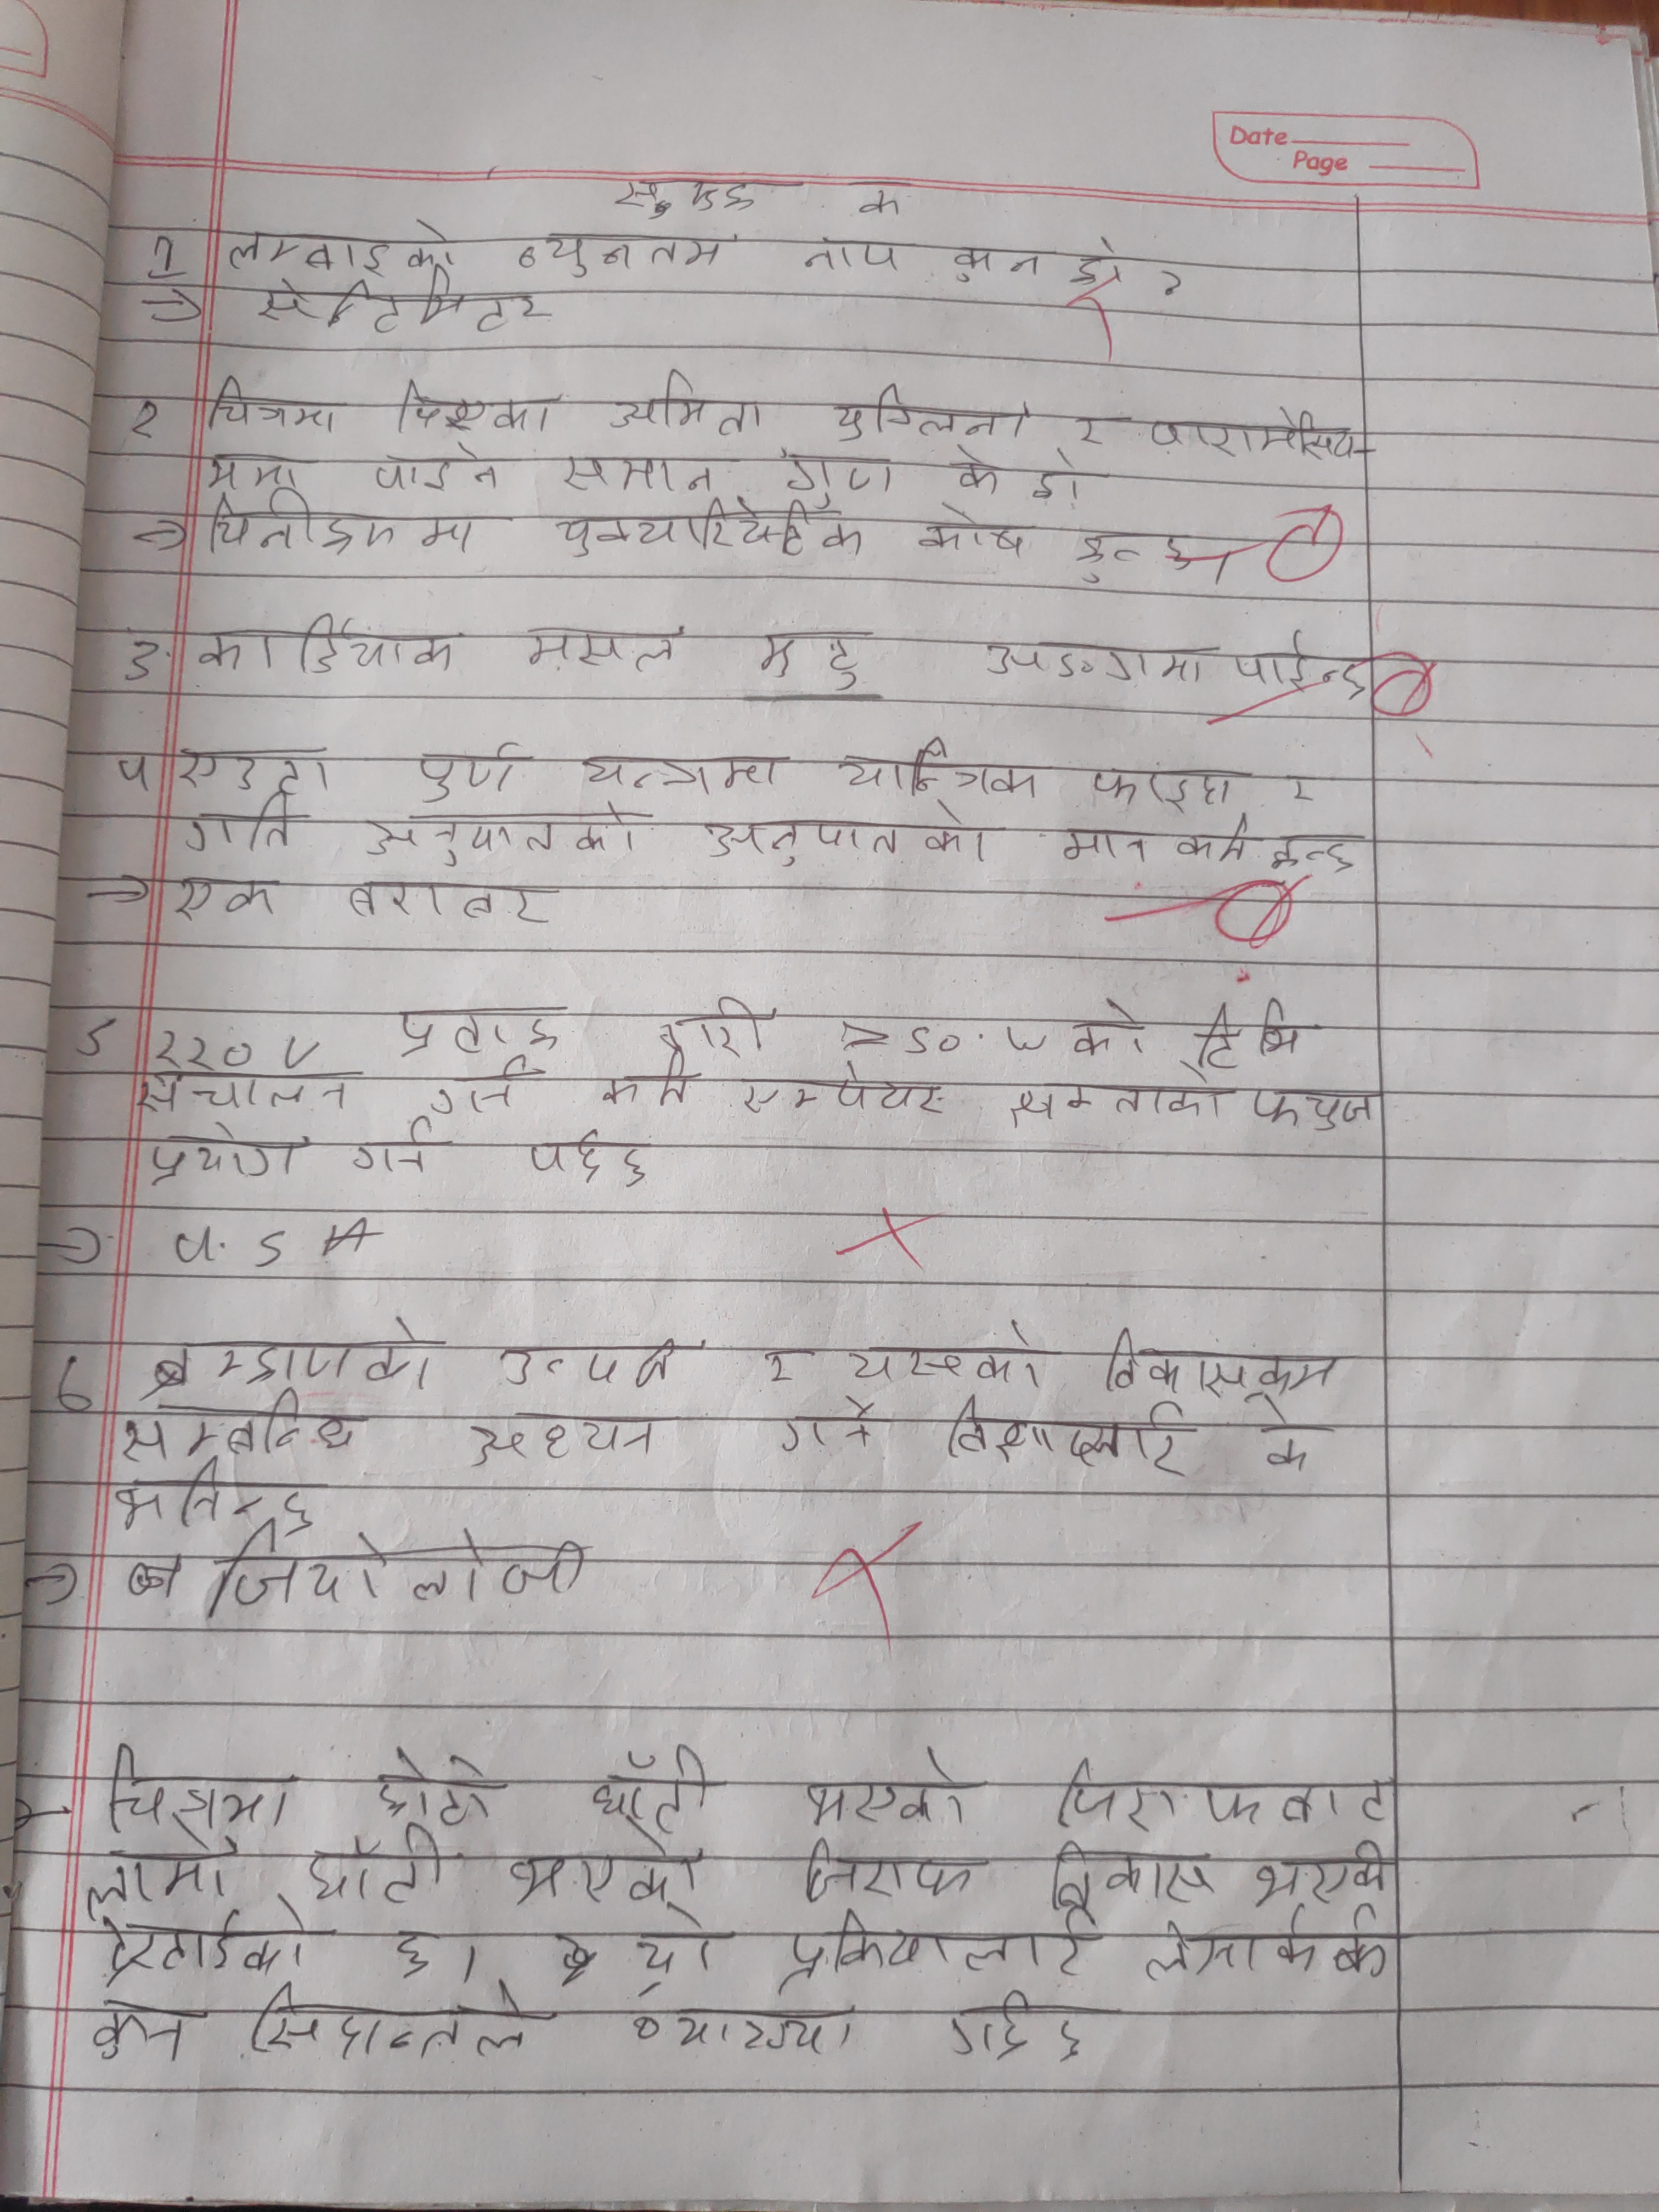text: (216, 1526, 589, 1615), (774, 1909, 1101, 1987), (1049, 1756, 1399, 1829), (246, 1980, 561, 2060), (943, 1392, 1195, 1480), (697, 799, 1002, 873), (141, 1318, 444, 1392), (1138, 1911, 1403, 1987), (256, 272, 551, 340), (207, 495, 509, 561), (361, 799, 645, 869), (85, 1895, 317, 1980), (105, 1740, 295, 1841), (558, 502, 870, 563), (1093, 1327, 1340, 1402), (195, 610, 462, 676), (119, 1395, 369, 1463), (505, 1831, 706, 1905), (113, 1465, 328, 1533), (627, 1998, 861, 2057), (228, 216, 460, 275), (809, 1745, 976, 1827), (1154, 404, 1368, 467), (845, 1320, 1053, 1385), (739, 1059, 951, 1122), (833, 742, 1037, 806), (831, 381, 1030, 446), (364, 1745, 512, 1831), (465, 1407, 671, 1468), (134, 1068, 371, 1116), (87, 1834, 237, 1911), (943, 1991, 1100, 2064), (1004, 1080, 1237, 1129), (983, 637, 1215, 686), (1051, 1841, 1220, 1907), (800, 1841, 983, 1902), (592, 1750, 730, 1831), (146, 1120, 308, 1188), (310, 1831, 457, 1905), (343, 878, 559, 928), (577, 749, 786, 799), (610, 369, 769, 434), (392, 374, 565, 434), (497, 1336, 699, 1385), (511, 232, 744, 273), (523, 615, 685, 674), (1256, 1838, 1394, 1907), (84, 1993, 207, 2066), (207, 374, 352, 435), (1192, 989, 1307, 1066), (185, 791, 312, 859), (617, 174, 800, 221), (1234, 636, 1371, 697), (526, 1125, 659, 1188), (659, 993, 782, 1059), (394, 1005, 566, 1052), (176, 747, 340, 794), (627, 1905, 734, 1977), (429, 1052, 540, 1120), (1075, 528, 1199, 587), (558, 449, 716, 495), (1087, 765, 1246, 810), (410, 738, 526, 799), (1251, 1080, 1382, 1134), (756, 625, 871, 686), (1249, 1393, 1331, 1479), (173, 869, 284, 930), (373, 444, 511, 493), (774, 1397, 884, 1456), (775, 449, 896, 503), (347, 1127, 453, 1181), (599, 1054, 699, 1111), (913, 510, 1030, 559), (1068, 993, 1150, 1059), (202, 444, 321, 489), (1269, 826, 1366, 880), (796, 239, 904, 280), (1173, 819, 1258, 869), (951, 239, 1042, 286), (1056, 826, 1154, 869), (382, 1923, 450, 1982), (950, 444, 1011, 503), (849, 172, 917, 223), (1068, 406, 1136, 455), (1032, 465, 1100, 507), (762, 1345, 819, 1383)
